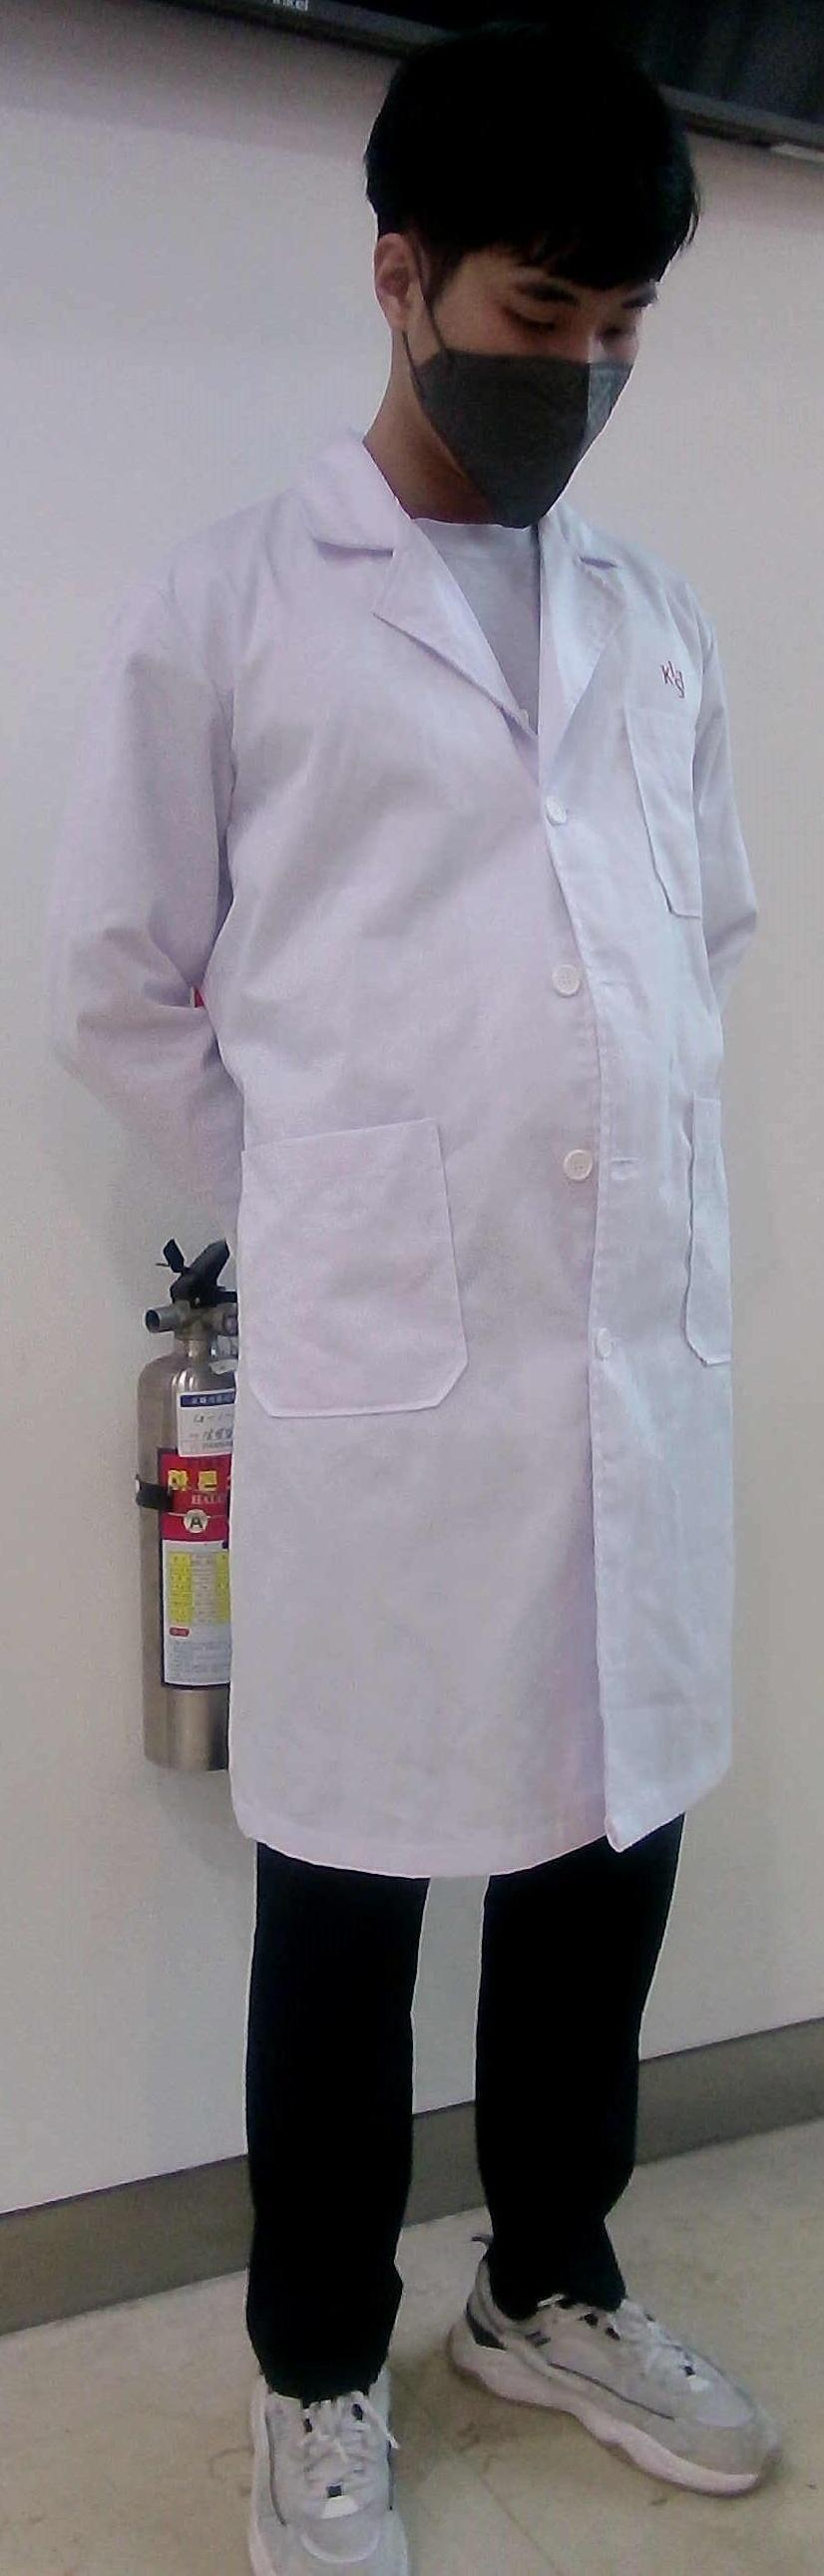lab_coat: (66, 529, 786, 1827)
